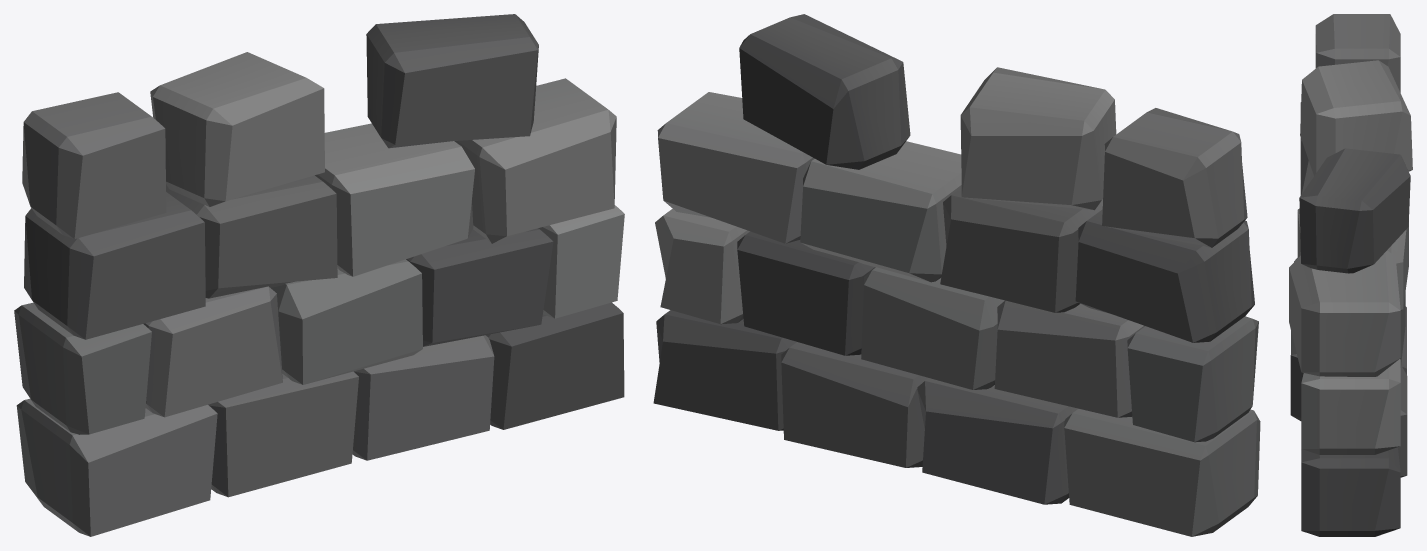
File: Fence_Rock_C.fbx
The picture shows the model from 3 angles, left to right: view 1: azimuth 30°, elevation 25°; view 2: azimuth 150°, elevation 25°; view 3: azimuth 270°, elevation 25°; orthographic projection. The views are drawn at different scales.
Parts seen in each view (by area): view 1: Fence_Rock_C; view 2: Fence_Rock_C; view 3: Fence_Rock_C.
Boxes of the visible parts, box(x1,y1,x2,y2) form: Fence_Rock_C: box(14, 14, 624, 536); Fence_Rock_C: box(653, 14, 1260, 536); Fence_Rock_C: box(1289, 14, 1412, 536).
Bounding box in the file's own units: 224 × 148 × 53.09.
